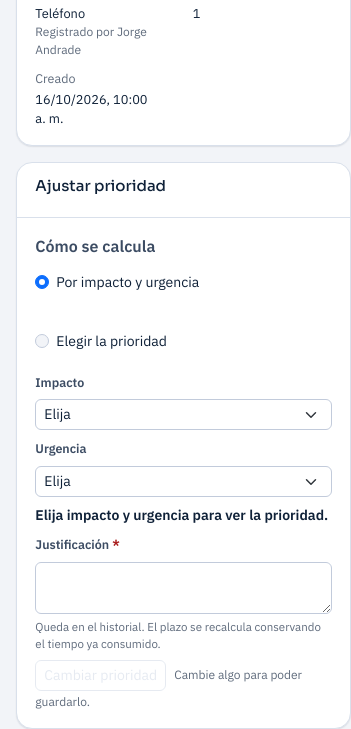
Test: La ficha con el flujo ITIL › ajusta la prioridad por la matriz, con justificación
This screenshot has width=351, height=729.
(page scrolled)
Select "Alto: toda la empresa, una sucursal o un proceso crítico" in the dropdown labelled "Impacto" at (184, 415), box [35,399,332,430]
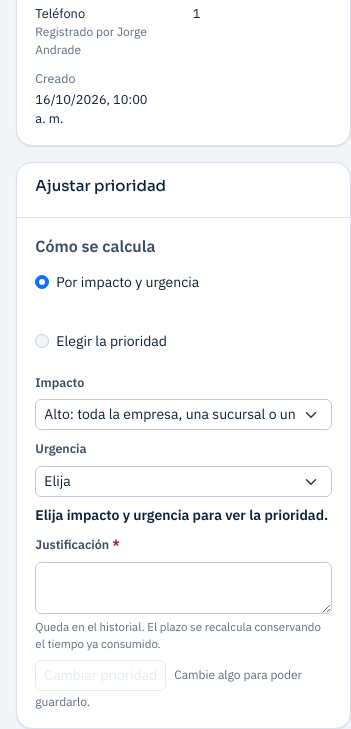
Select "Alta: la operación está detenida" in the dropdown labelled "Urgencia" at (184, 482), box [35,466,332,497]
(page scrolled)
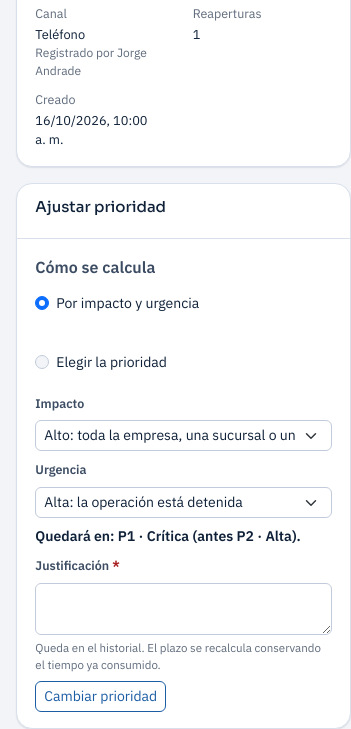
Type "Toda la bodega sin escáneres" into the text box labelled "Justificación *" at (184, 609), box [35,583,332,635]
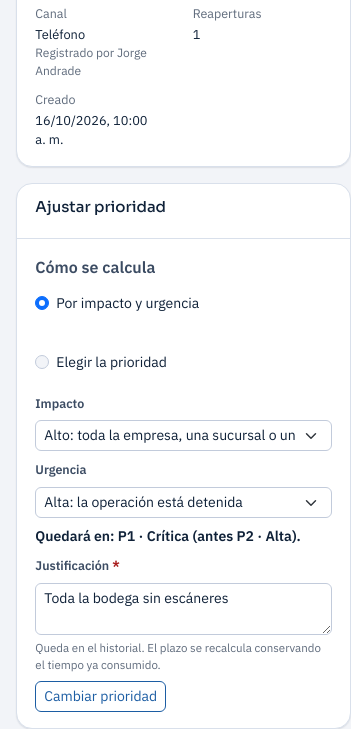
Click the button "Cambiar prioridad" at (101, 697), box [35,681,166,712]
(page scrolled)
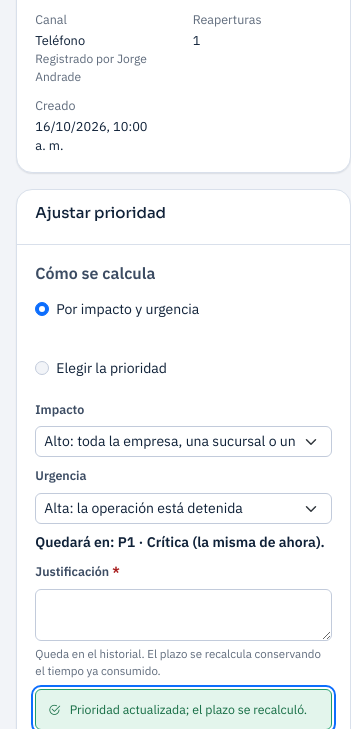
Now the text "Prioridad actualizada; el plazo se recalculó." is shown, box [35,689,332,728]
